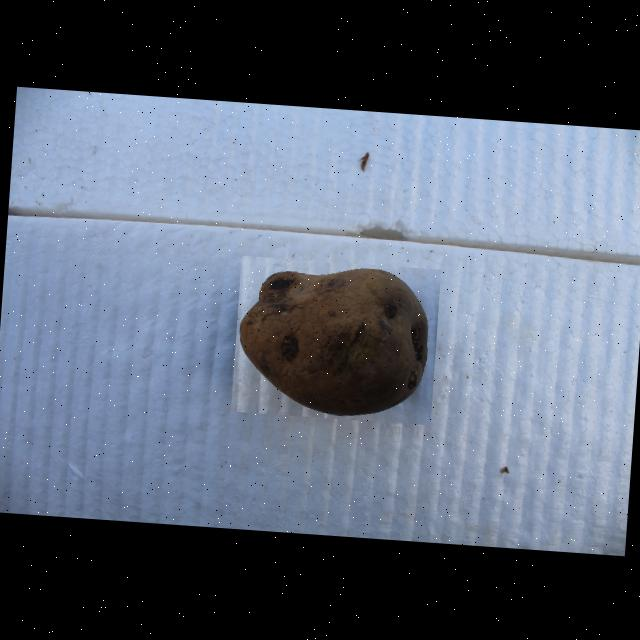Diseased-fungal potato: (230, 254, 440, 424)
